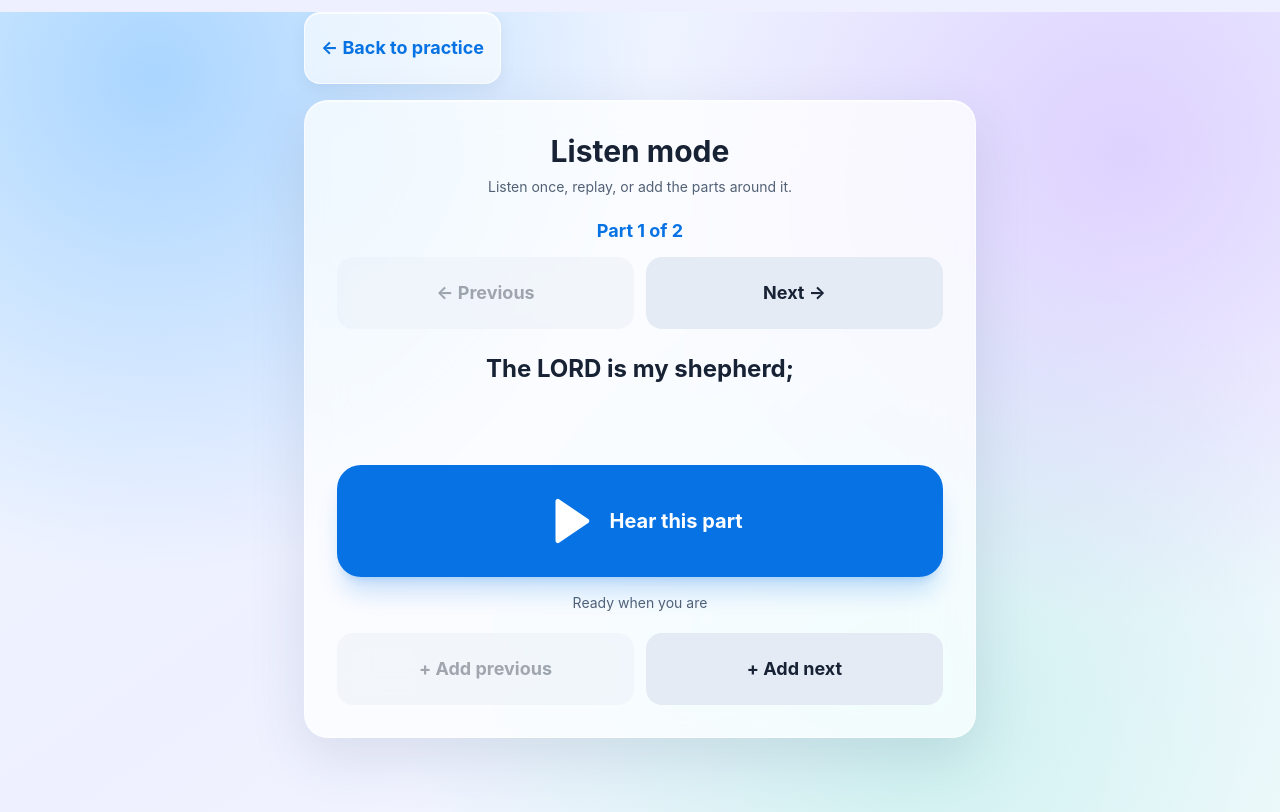
Test case: Listen mode › stops on navigation and ignores late callbacks from the previous part
Click the button "Hear this part": coordinates (640, 521) [337, 465, 943, 577]
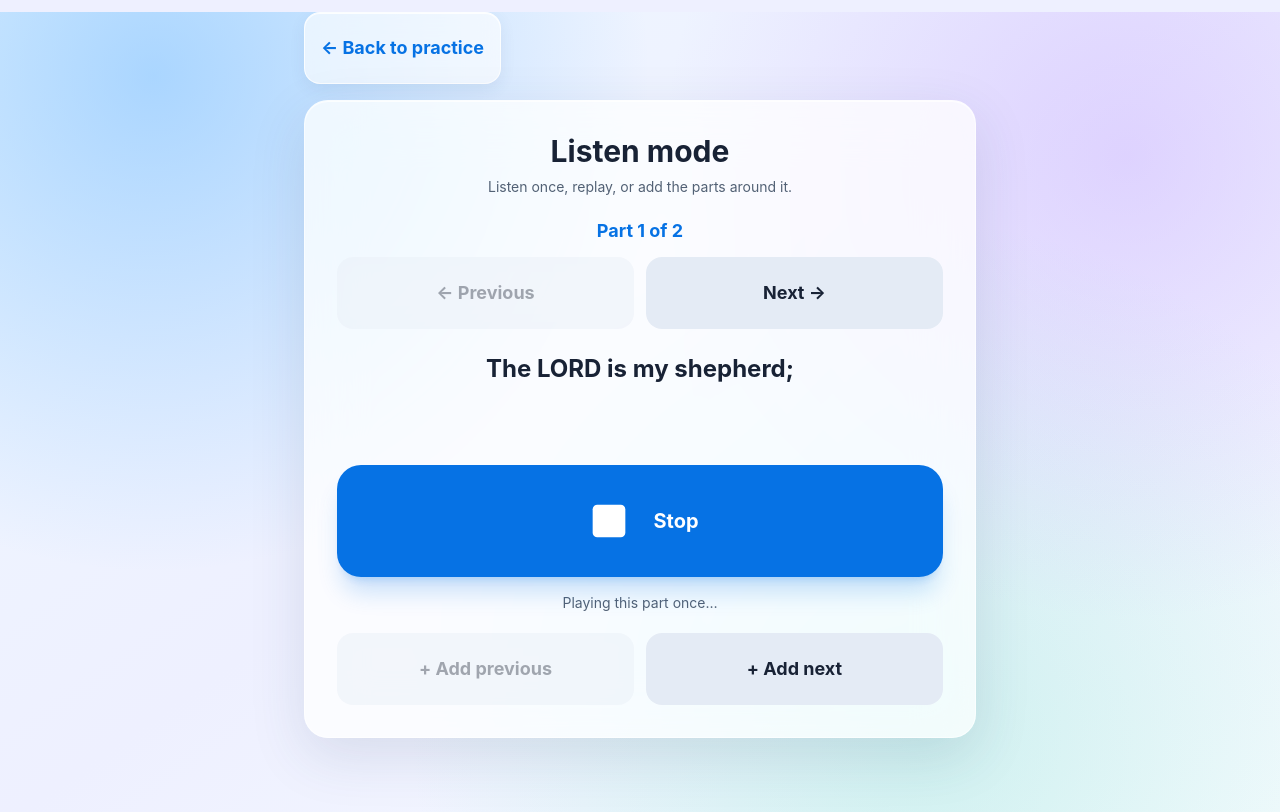
Click the button with aria-label "Next part": coordinates (794, 293) [646, 257, 943, 329]
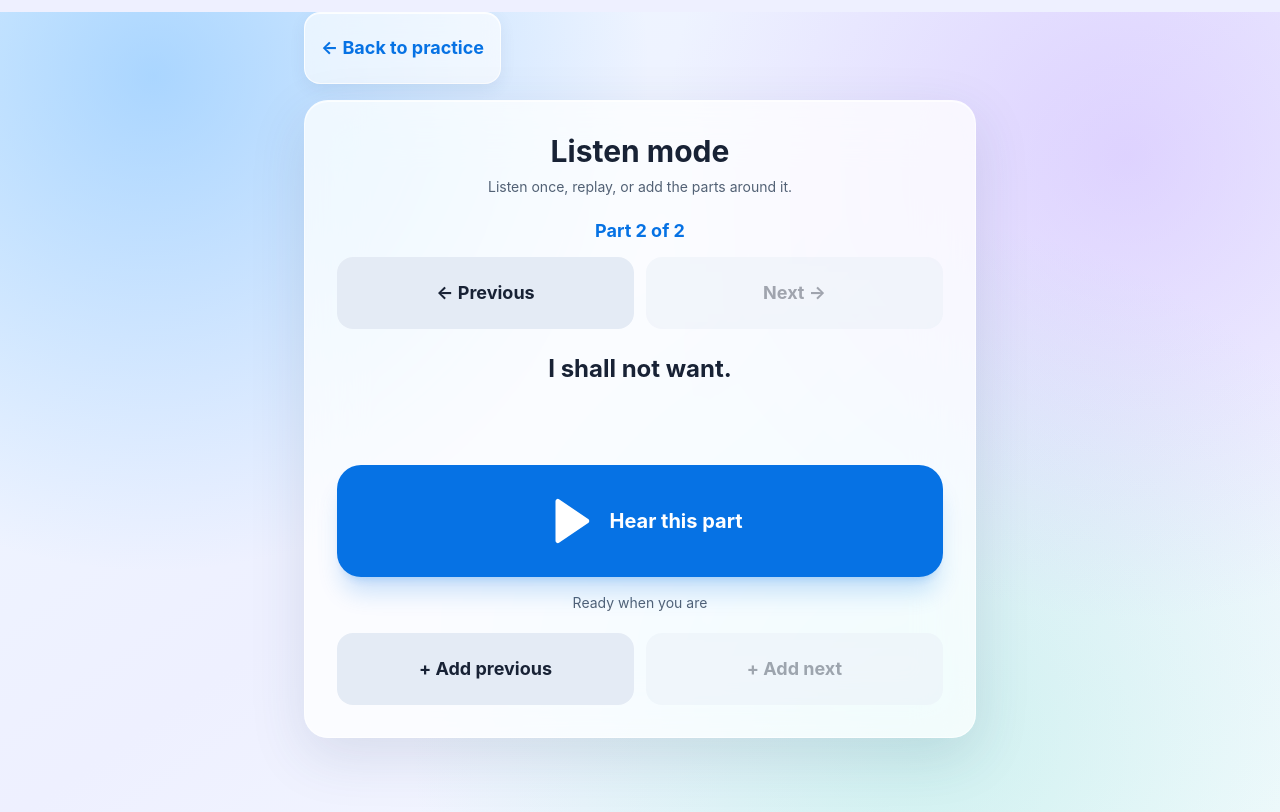
Result: the text "Part 2 of 2" is shown at [595, 220, 685, 241]
Result: the button with aria-label "Next part" is disabled at [646, 257, 943, 329]
Click the button "Hear this part": coordinates (640, 521) [337, 465, 943, 577]
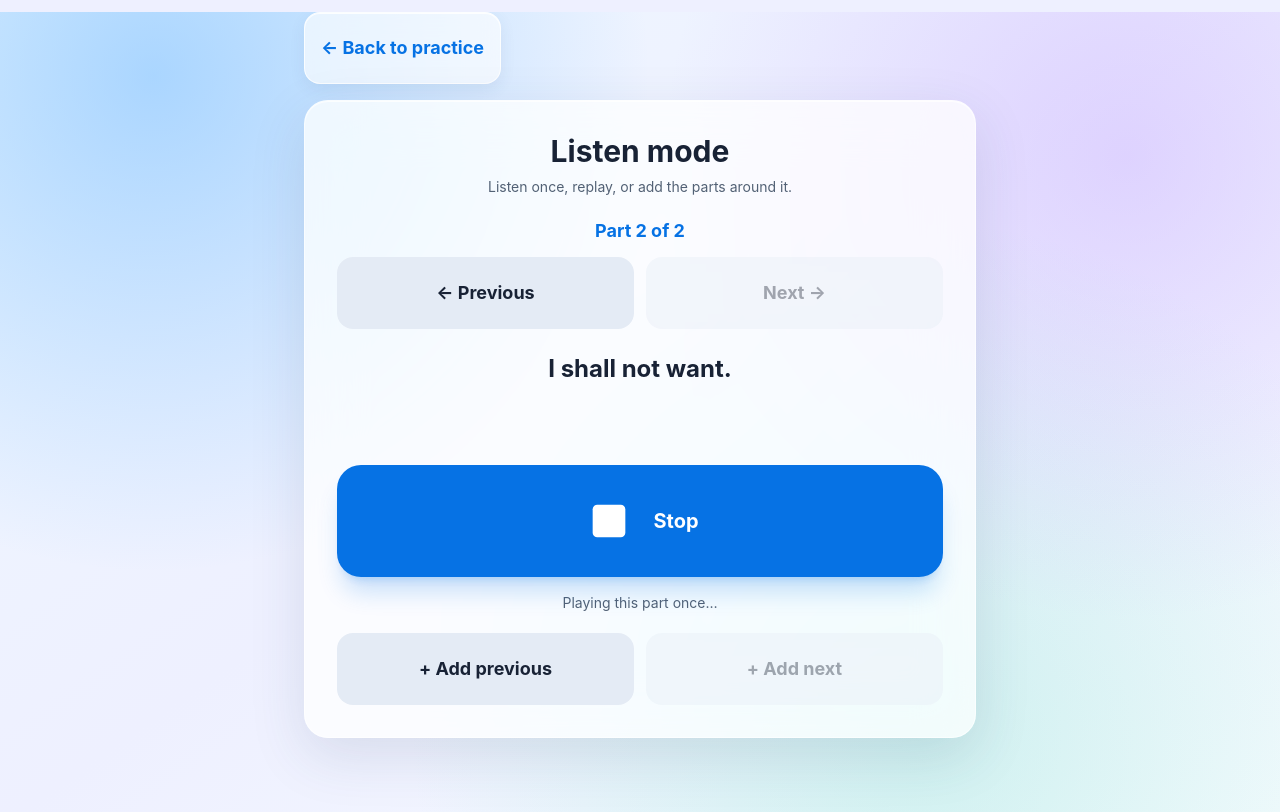
Result: the text "I shall not want." is shown at [548, 354, 732, 383]
Result: the button with aria-label "Stop playback" is shown at [337, 465, 943, 577]
